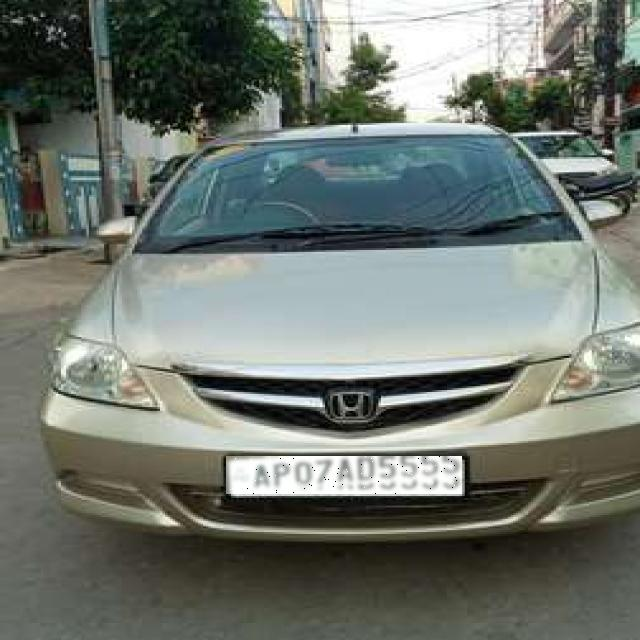Plate: (227, 458, 463, 496)
